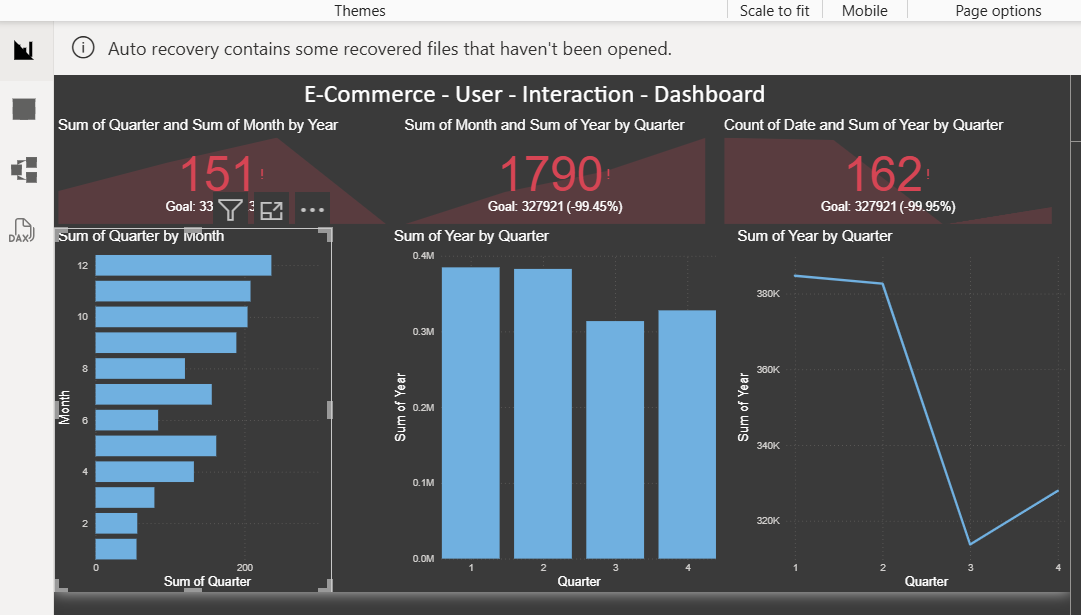

The dashboard page shown, as its layout file describes it:
{"tool":"powerbi","page":{"name":"Page 1","canvas":[1280,720],"ordinal":0},"visuals":[{"type":"kpi","fields":{"Indicator":["Sum(interactions.Quarter)"],"TrendLine":["interactions.Year"],"Goal":["Sum(interactions.Month)"]},"box":[0,120.9,423.3,139.8],"z":0},{"type":"barChart","fields":{"Y":["Sum(interactions.Quarter)"],"Category":["interactions.Month"]},"box":[0,260.8,349.6,459.2],"z":1000},{"type":"columnChart","fields":{"Category":["interactions.Quarter"],"Y":["Sum(interactions.Year)"]},"box":[423.3,260.8,415.8,459.2],"z":2000},{"type":"lineChart","fields":{"Category":["interactions.Quarter"],"Y":["Sum(interactions.Year)"]},"box":[856.1,260.8,423.3,459.2],"z":3000},{"type":"kpi","fields":{"Indicator":["Sum(interactions.Month)"],"TrendLine":["interactions.Quarter"],"Goal":["Sum(interactions.Year)"]},"box":[436.5,120.9,389.3,139.8],"z":4000},{"type":"kpi","fields":{"Indicator":["CountNonNull(interactions.Date)"],"TrendLine":["interactions.Quarter"],"Goal":["Sum(interactions.Year)"]},"box":[839.1,120.9,423.3,139.8],"z":5000},{"type":"textbox","box":[309.9,66.1,648.2,54.8],"z":6000}]}

Visuals, with their boxes on the page's 1280x720 design canvas (x1, y1, x2, y2). These are canvas units, not pixel positions in the 1081x615 screenshot, which may show the page scaled, cropped or inside an application window:
kpi - Sum(interactions.Quarter) x interactions.Year: box=[0, 121, 423, 261]
barChart - Sum(interactions.Quarter) x interactions.Month: box=[0, 261, 350, 720]
columnChart - interactions.Quarter x Sum(interactions.Year): box=[423, 261, 839, 720]
lineChart - interactions.Quarter x Sum(interactions.Year): box=[856, 261, 1279, 720]
kpi - Sum(interactions.Month) x interactions.Quarter: box=[436, 121, 826, 261]
kpi - CountNonNull(interactions.Date) x interactions.Quarter: box=[839, 121, 1262, 261]
textbox: box=[310, 66, 958, 121]
